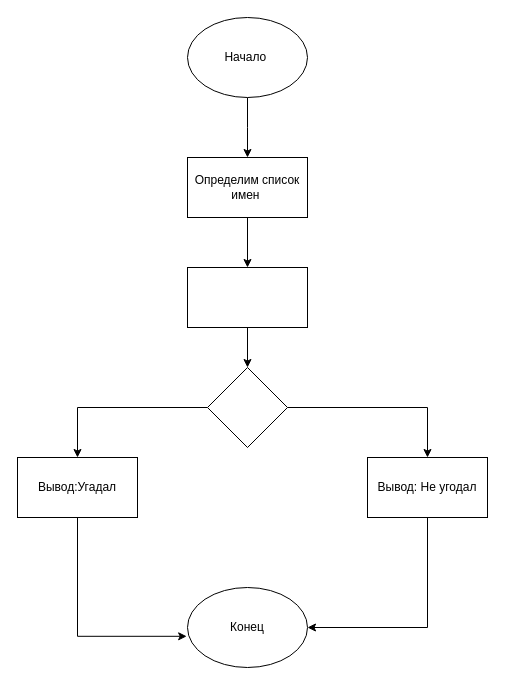
The diagram is 505 pixels wide and 685 high, and some of its shapes have lost their labels. The shapes that lost their labels are listed below. From the top down, each one's centre as x and y in pixels, then its label:
At point 247,297: "Пользователь вводит имя".
At point 247,407: "Имя есть в списке?".
